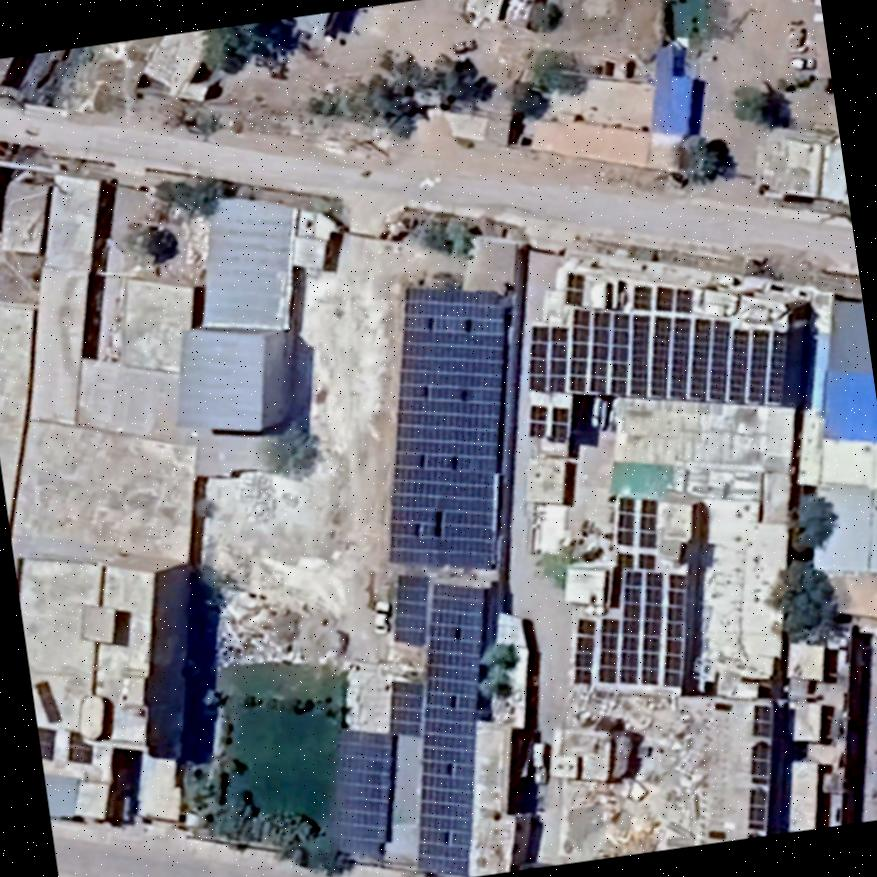Solarpanel: (332, 559, 484, 877), (524, 265, 795, 419), (382, 281, 511, 575), (569, 486, 695, 699), (738, 701, 775, 835), (524, 398, 574, 449), (31, 669, 65, 727), (62, 726, 94, 773), (37, 721, 56, 765)
